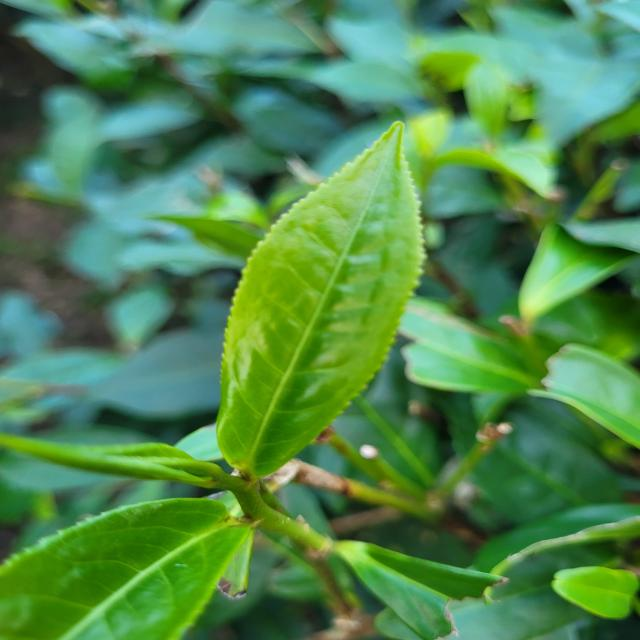Catagory A(1-2 days): (199, 110, 434, 493)
